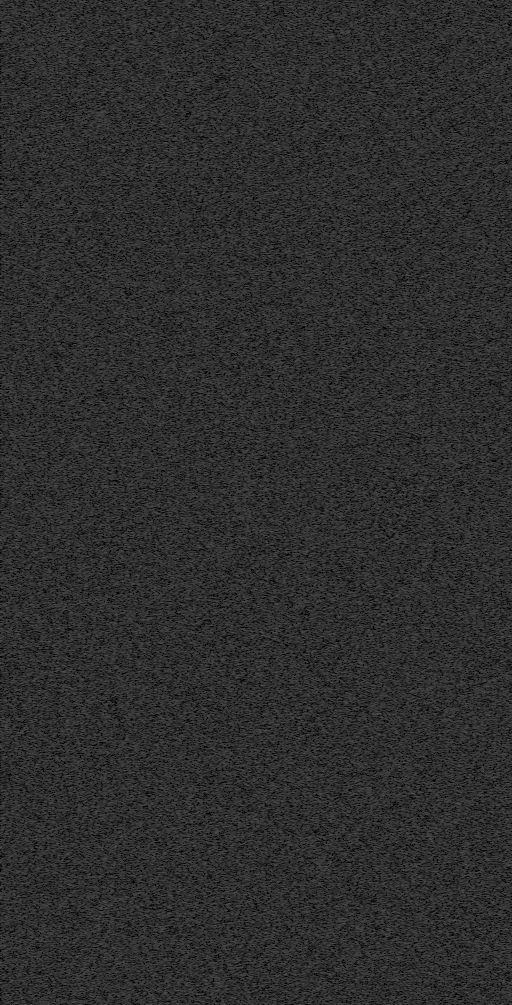wv_am: (441, 0, 447, 1004), (474, 0, 479, 1004)
wv_lsb: (340, 5, 346, 827), (341, 828, 346, 1004)
wv_usb: (17, 761, 22, 892), (446, 398, 451, 522), (17, 237, 22, 340), (446, 579, 451, 674), (446, 275, 451, 357), (446, 88, 451, 170), (17, 366, 22, 438), (446, 947, 451, 1004), (446, 222, 451, 274), (446, 171, 451, 221), (17, 893, 22, 940), (446, 523, 451, 568), (446, 358, 451, 397), (446, 9, 451, 48), (446, 703, 451, 741), (446, 49, 451, 87), (17, 537, 22, 573), (17, 974, 22, 1004), (446, 752, 451, 781), (17, 732, 22, 760), (446, 856, 451, 883), (446, 804, 451, 831), (446, 675, 451, 702), (17, 509, 22, 536), (17, 611, 22, 636), (17, 574, 22, 598), (17, 341, 22, 365), (17, 439, 22, 459), (17, 941, 22, 960), (17, 471, 22, 487), (446, 836, 451, 850), (17, 961, 22, 973), (17, 599, 22, 610), (17, 497, 22, 508), (447, 892, 450, 909), (446, 793, 451, 803), (17, 460, 22, 470), (446, 912, 451, 921), (446, 742, 451, 751), (446, 569, 451, 578), (446, 930, 451, 939), (446, 782, 451, 790), (17, 488, 22, 496), (18, 40, 21, 53), (17, 652, 22, 658), (18, 98, 21, 108), (18, 642, 21, 651), (18, 18, 21, 27), (18, 687, 21, 695), (18, 114, 21, 121), (446, 851, 451, 855), (18, 703, 21, 709), (18, 714, 21, 719), (18, 676, 21, 681), (18, 670, 21, 675), (447, 941, 450, 946), (447, 924, 450, 929), (18, 659, 21, 663), (18, 637, 21, 641), (18, 90, 21, 94), (18, 76, 21, 80), (18, 32, 21, 36), (447, 886, 450, 889), (18, 725, 21, 728), (18, 720, 21, 723), (18, 683, 21, 686), (18, 666, 21, 669), (18, 131, 21, 134), (18, 63, 21, 66), (18, 11, 21, 14)
wv_wbfm: (435, 0, 445, 1004), (449, 0, 458, 1004)
